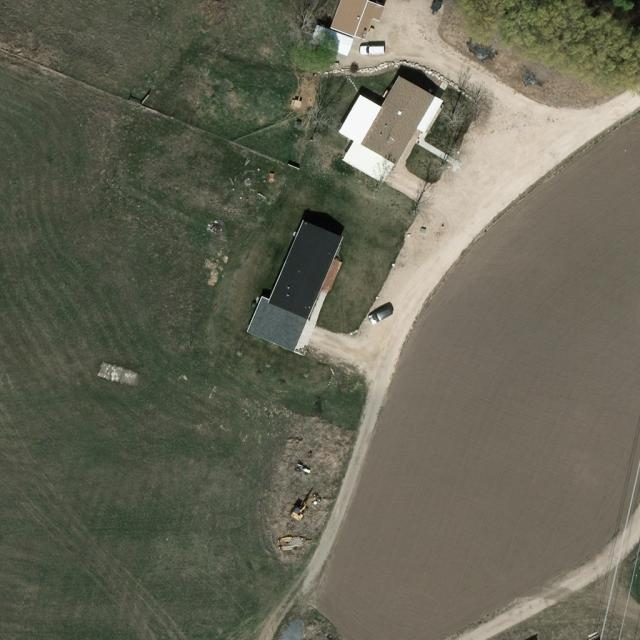vehicle: (368, 304, 393, 328), (359, 46, 385, 56)
